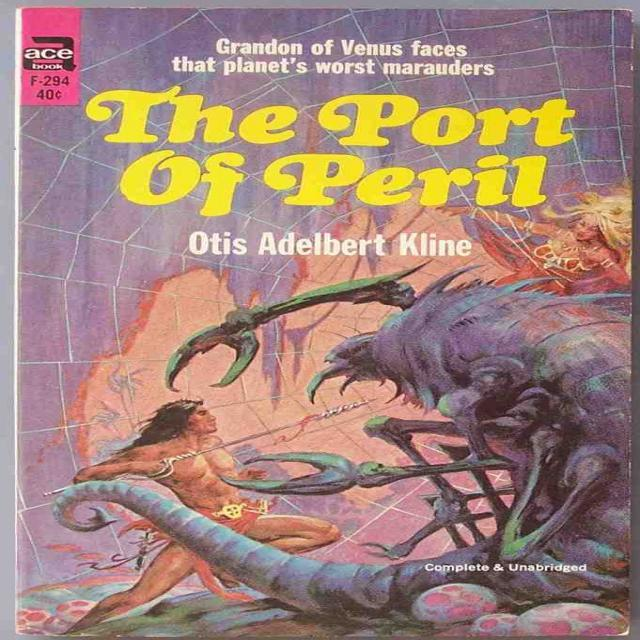book: (15, 10, 631, 640)
